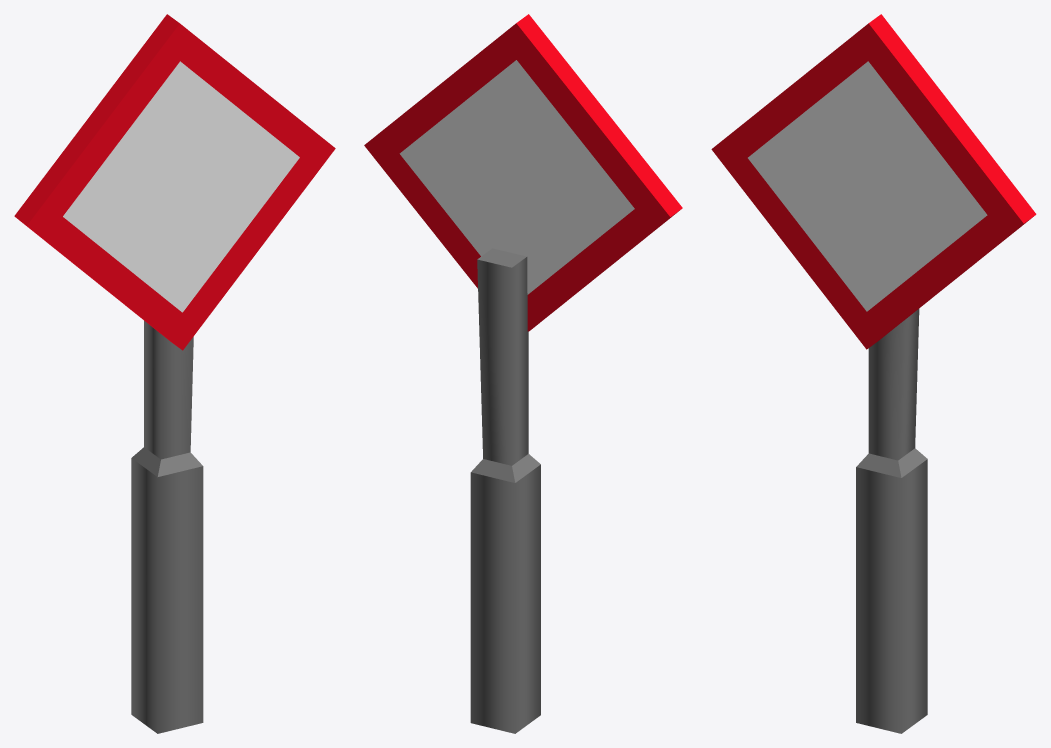
Rendered from SM_Road_Sing.fbx.
3 views of the same model, side by side, from view 1: azimuth 30°, elevation 25°; view 2: azimuth 150°, elevation 25°; view 3: azimuth 330°, elevation 25° (orthographic). The views are drawn at different scales.
Parts seen in each view (by area): view 1: SM_Road_Sing; view 2: SM_Road_Sing; view 3: SM_Road_Sing.
Part boxes in pixels (x1,y1,x2,y2): SM_Road_Sing: [14, 14, 335, 733]; SM_Road_Sing: [364, 14, 682, 733]; SM_Road_Sing: [711, 14, 1036, 733].
Size of the model in its own units: 193 by 421 by 36.13.
